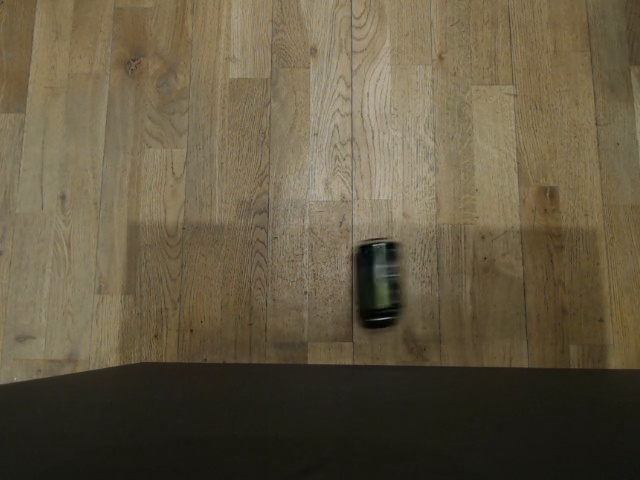beer: (354, 237, 405, 325)
